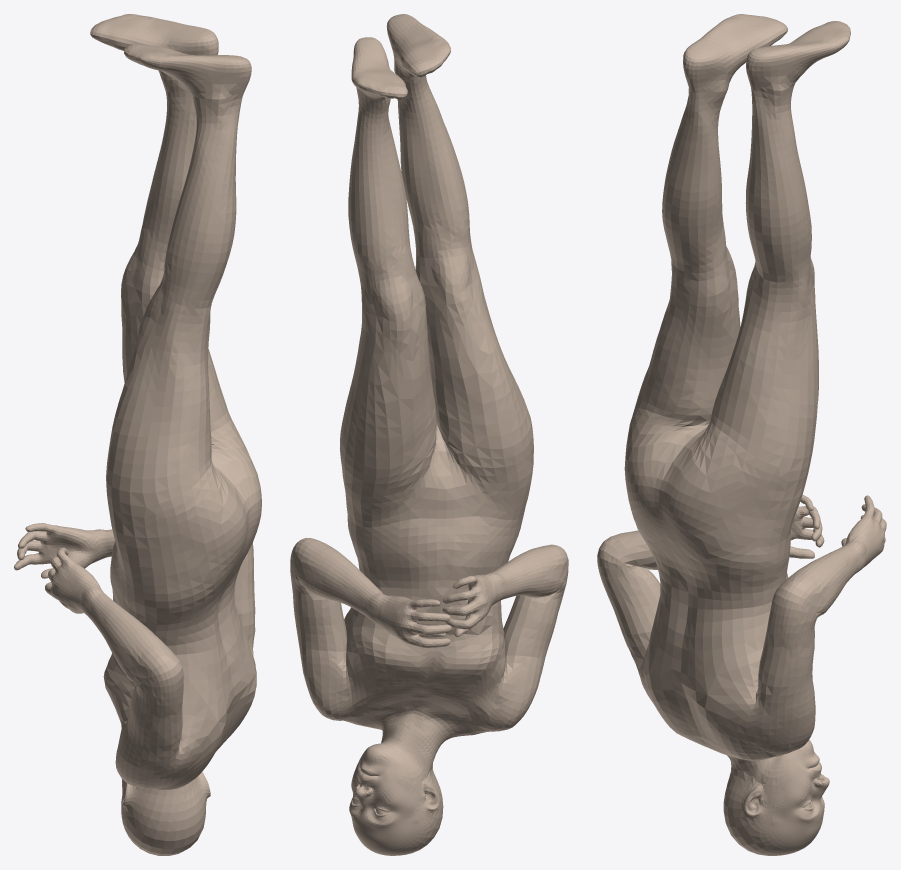
The model's file is 55ad0a2c-a440-44f0-8046-f66e71c133f4_avatar.glb.
The picture shows the model from 3 angles, left to right: view 1: azimuth 30°, elevation 25°; view 2: azimuth 150°, elevation 25°; view 3: azimuth 270°, elevation 25°; orthographic projection. The views are drawn at different scales.
Visible parts, largest first — view 1: world; view 2: world; view 3: world.
Boxes of the visible parts, x1,y1,x2,y2 form: world: (14, 14, 261, 855); world: (290, 14, 568, 855); world: (597, 14, 886, 855).
Size of the model in its own units: 0.4164 by 1.64 by 0.5222.
